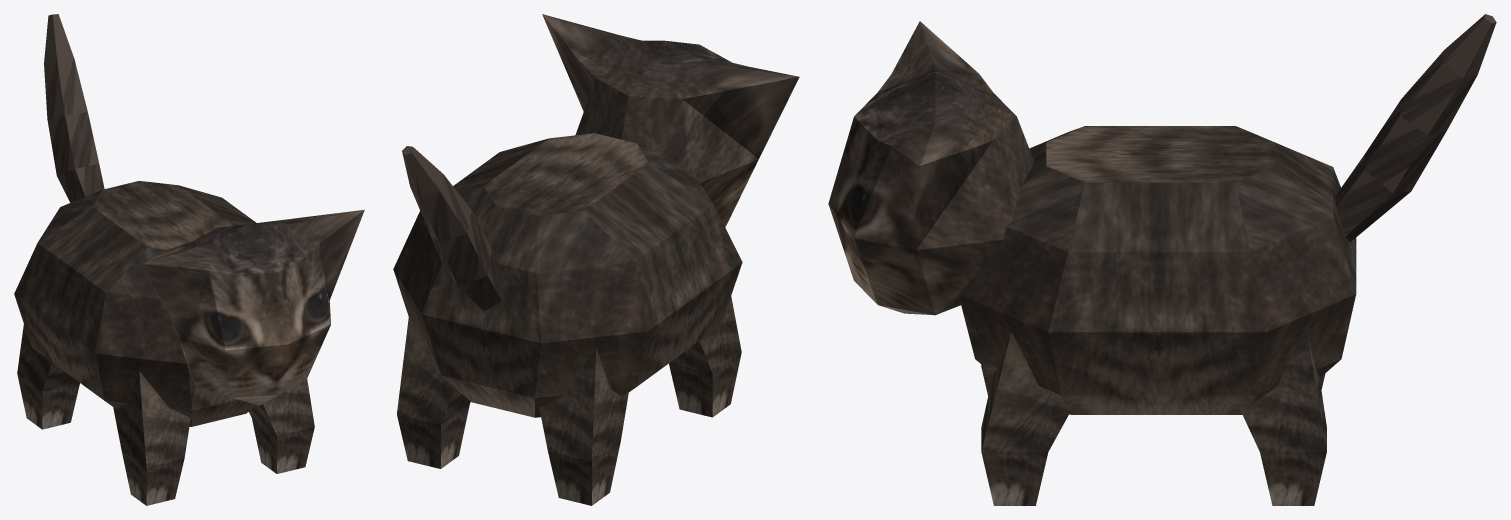
The model's file is chunky_tabby_cat.glb.
3 renders of one model, left to right at view 1: azimuth 30°, elevation 25°; view 2: azimuth 150°, elevation 25°; view 3: azimuth 270°, elevation 25°, orthographic. The views are drawn at different scales.
Parts seen in each view (by area): view 1: ChunkyTabbyCat; view 2: ChunkyTabbyCat; view 3: ChunkyTabbyCat.
Part boxes in pixels (box(x1,y1,x2,y2)): ChunkyTabbyCat: box(14, 14, 364, 505); ChunkyTabbyCat: box(393, 14, 799, 505); ChunkyTabbyCat: box(828, 14, 1496, 505).
Bounding box in the file's own units: 0.695 × 1 × 1.35.
1 material, 1 textured.
